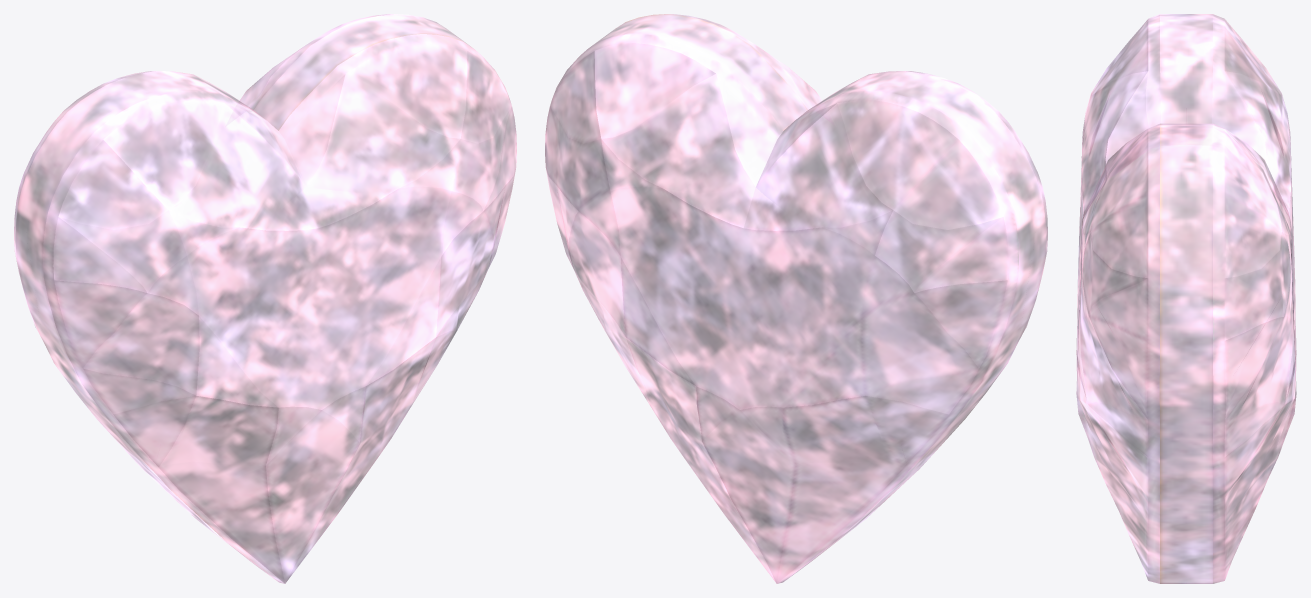
The model's file is Heart.glb.
3 views of the same model, side by side, from view 1: azimuth 30°, elevation 25°; view 2: azimuth 150°, elevation 25°; view 3: azimuth 270°, elevation 25° (orthographic). The views are drawn at different scales.
Parts seen in each view (by area): view 1: Plane.003_Diamond_Master_0; view 2: Plane.003_Diamond_Master_0; view 3: Plane.003_Diamond_Master_0.
Boxes of the visible parts, x1=… form: Plane.003_Diamond_Master_0: x1=14, y1=14, x2=516, y2=583; Plane.003_Diamond_Master_0: x1=545, y1=14, x2=1047, y2=583; Plane.003_Diamond_Master_0: x1=1076, y1=14, x2=1296, y2=583.
Bounding box in the file's own units: 1.05 × 1.1 × 0.4367.
1 material, 1 textured.
